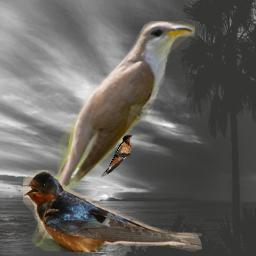Cuckoo: (29, 21, 195, 251)
Swallow: (23, 170, 202, 252), (100, 134, 133, 177)
